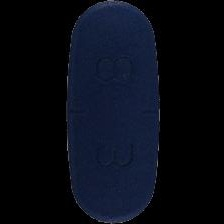63739-552: (0, 0, 224, 224)
